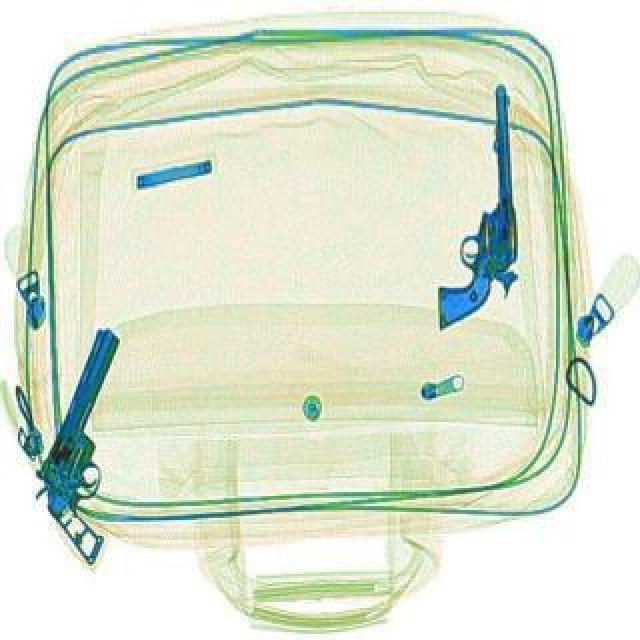gun: (8, 324, 184, 562), (422, 80, 522, 326)
